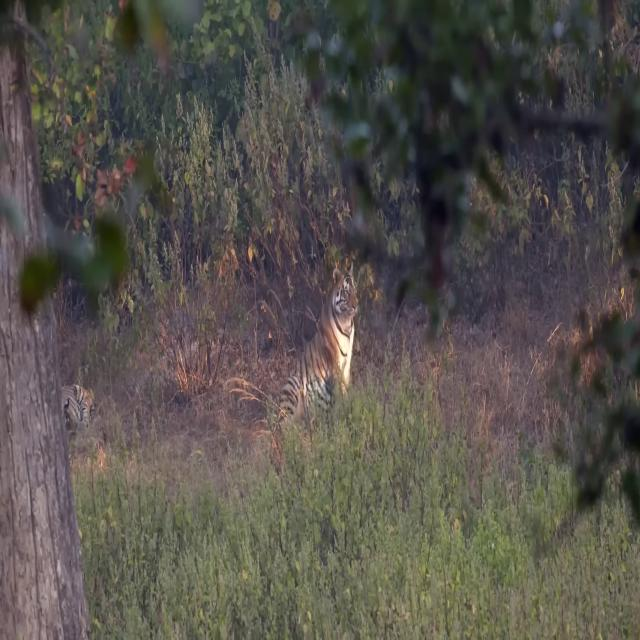tiger: (278, 261, 360, 431)
